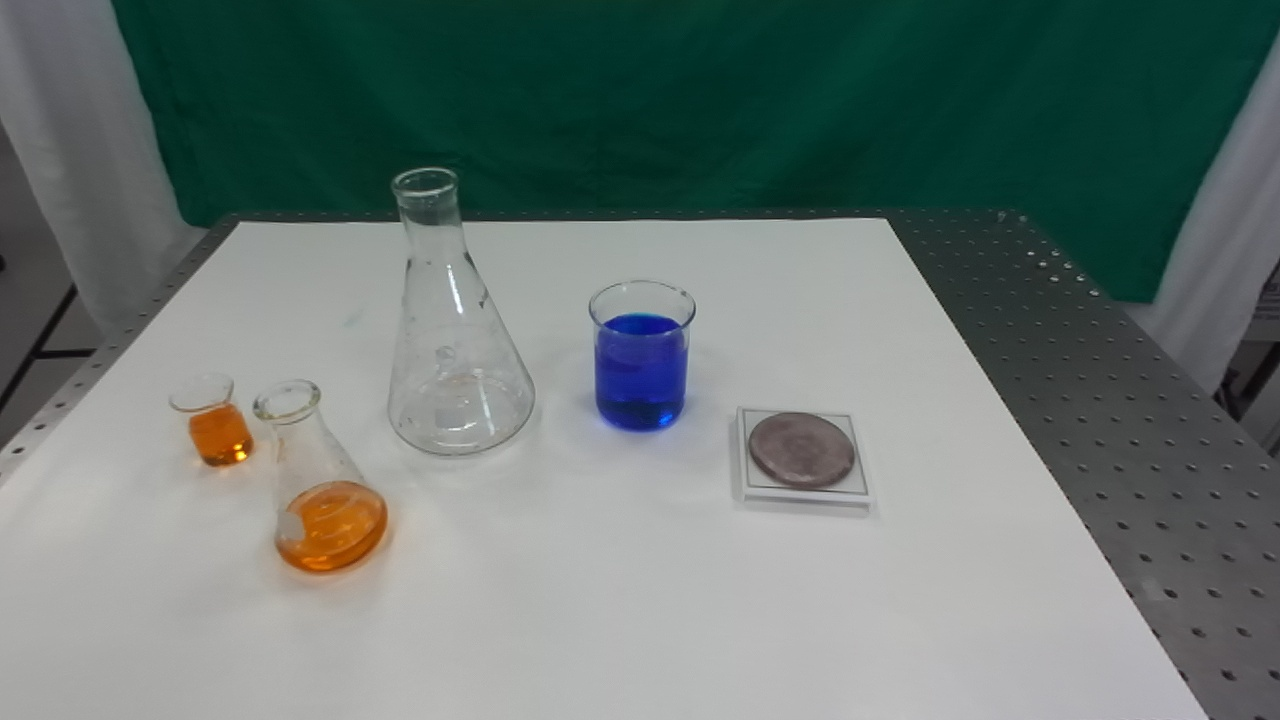glass: (377, 162, 541, 463), (246, 374, 395, 583), (583, 273, 700, 437), (166, 365, 258, 475)
plate: (727, 401, 880, 520)
